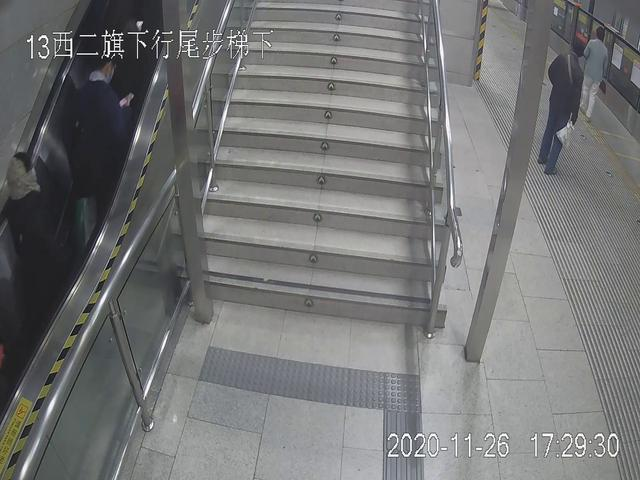person: (69, 49, 132, 204), (539, 38, 584, 174), (575, 23, 610, 125)
